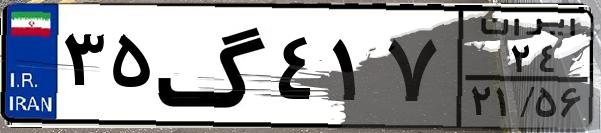1: (330, 28, 385, 110), (495, 70, 520, 125)
2: (508, 27, 537, 80), (470, 70, 495, 125)
3: (57, 26, 110, 100)
4: (270, 28, 330, 110), (537, 27, 568, 80)
5: (110, 28, 156, 98), (535, 70, 560, 125)
6: (560, 70, 590, 125)
7: (385, 28, 445, 110)
گ: (156, 12, 270, 120)
